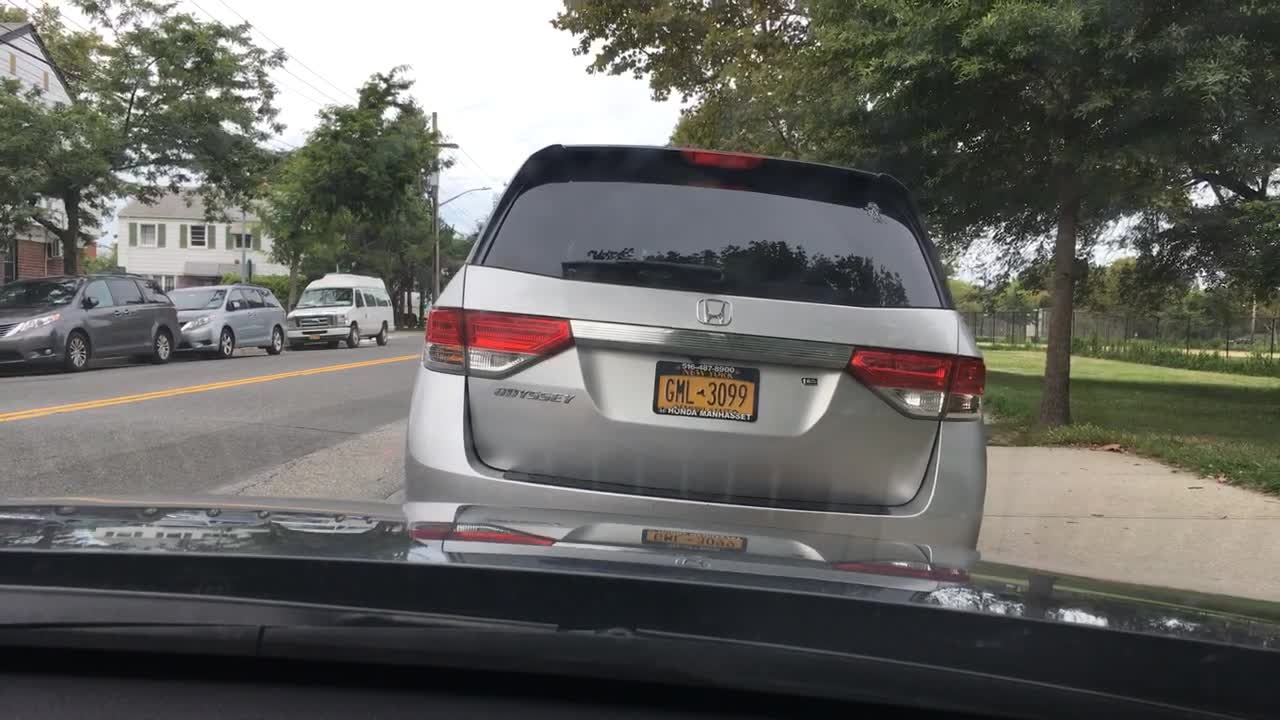car: (402, 141, 988, 563), (0, 272, 183, 378), (164, 283, 287, 360), (285, 271, 395, 350), (1231, 329, 1272, 347)
traffic sign: (245, 258, 254, 276)
truck: (388, 288, 433, 329)
